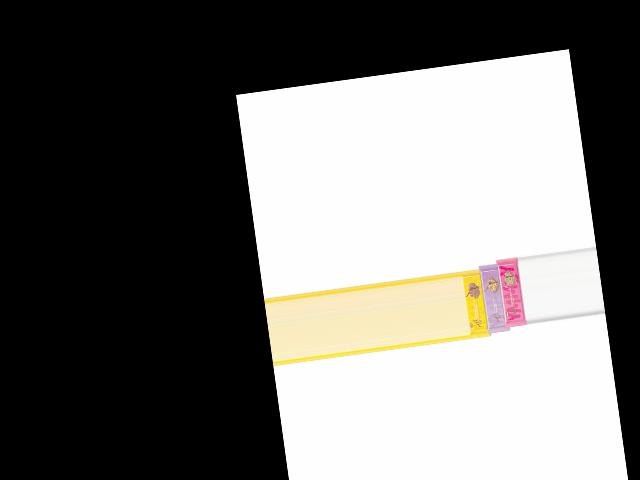chocolate: (495, 252, 528, 330)
